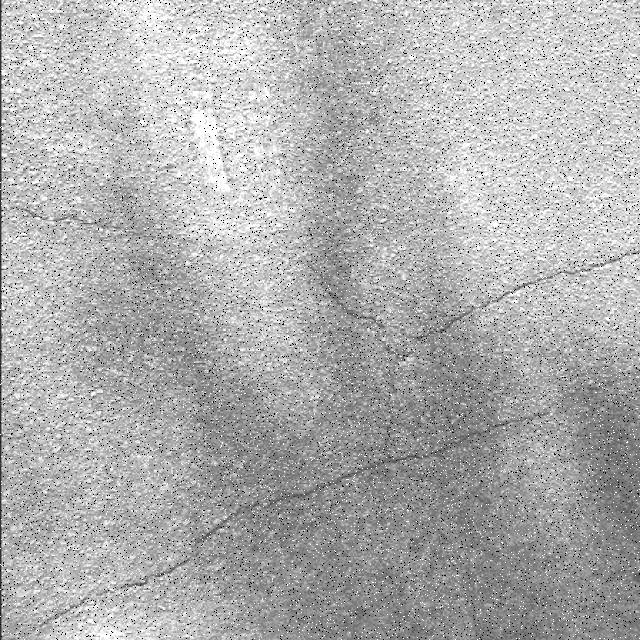Crack: (33, 253, 635, 630), (4, 208, 158, 239)
